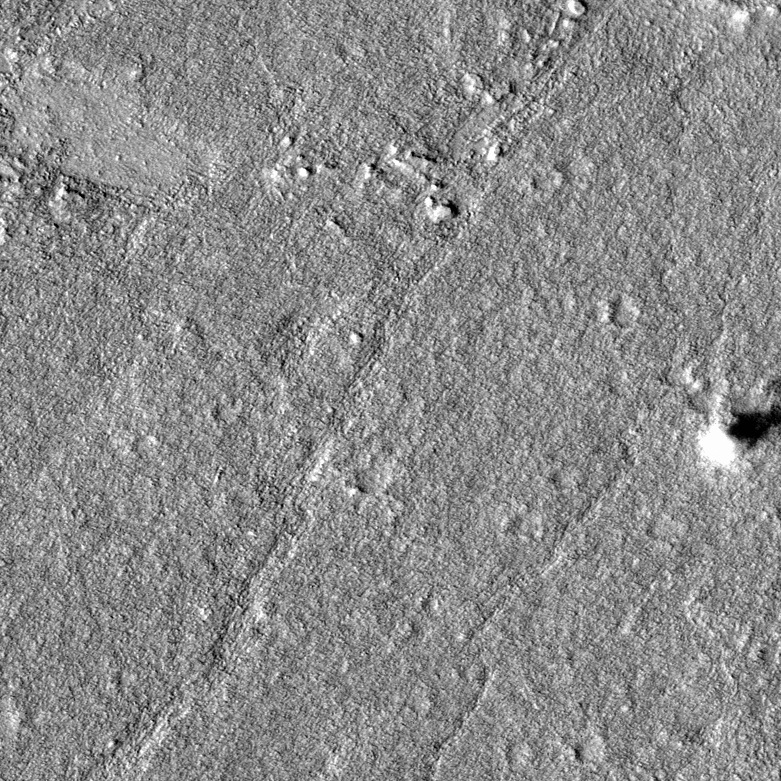dust_devil: (695, 398, 781, 473)
